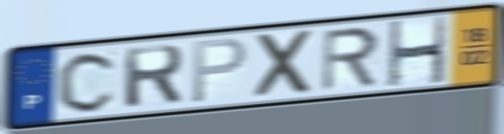C: (55, 49, 121, 115)
H: (386, 14, 448, 90)
P: (189, 35, 250, 106)
R: (121, 42, 187, 110), (319, 24, 382, 94)
X: (254, 26, 318, 102)
